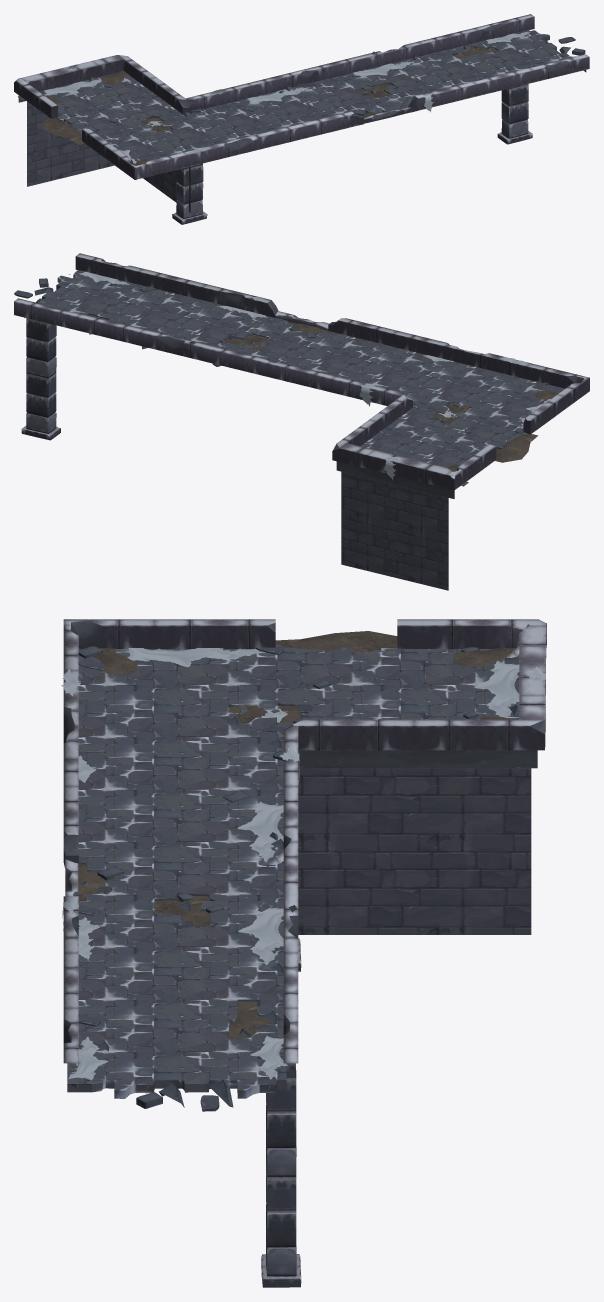
File: Beidaying_qiao.FBX
3 views of the same model, one above another, from view 1: azimuth 30°, elevation 25°; view 2: azimuth 150°, elevation 25°; view 3: azimuth 270°, elevation 25° (orthographic). The views are drawn at different scales.
Parts seen in each view (by area): view 1: Beidaying_qiao01, Beidaying_qiao02, Beidaying_qiao03, Beidaying_qiao04; view 2: Beidaying_qiao01, Beidaying_qiao02, Beidaying_qiao04, Beidaying_qiao03; view 3: Beidaying_qiao02, Beidaying_qiao01, Beidaying_qiao03, Beidaying_qiao04.
Boxes of the visible parts, <box> form: Beidaying_qiao01: <box>14,14,589,224</box>; Beidaying_qiao02: <box>39,30,586,163</box>; Beidaying_qiao03: <box>44,32,530,163</box>; Beidaying_qiao04: <box>18,46,497,165</box>; Beidaying_qiao01: <box>14,253,589,590</box>; Beidaying_qiao02: <box>14,270,564,467</box>; Beidaying_qiao04: <box>88,314,558,486</box>; Beidaying_qiao03: <box>69,271,550,480</box>; Beidaying_qiao02: <box>67,645,519,1111</box>; Beidaying_qiao01: <box>63,619,546,1287</box>; Beidaying_qiao03: <box>61,648,545,1085</box>; Beidaying_qiao04: <box>78,631,519,1038</box>.
Bounding box in the file's own units: 1239 × 535 × 285.
